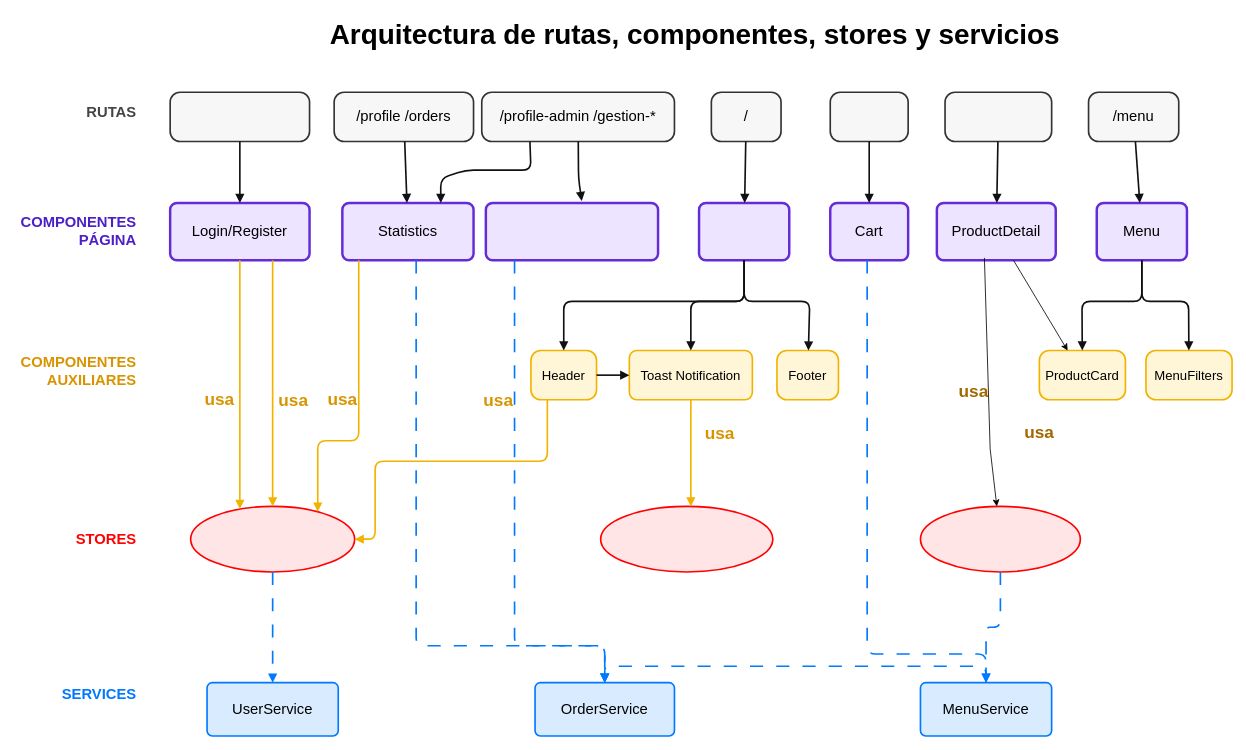
The diagram is 1246 pixels wide and 750 high, and some of its shapes have lost their labels. Here are the shapes that lost their labels. From the top down, the box of each, then its label:
(169, 91, 310, 142): /login /register
(829, 91, 909, 142): /cart
(944, 91, 1052, 142): /product/:id
(484, 201, 659, 261): GestionMenu/Users
(697, 201, 790, 261): Home
(189, 505, 355, 572): AuthStore
(599, 505, 773, 572): NotificationStore
(919, 505, 1081, 572): CartStore
